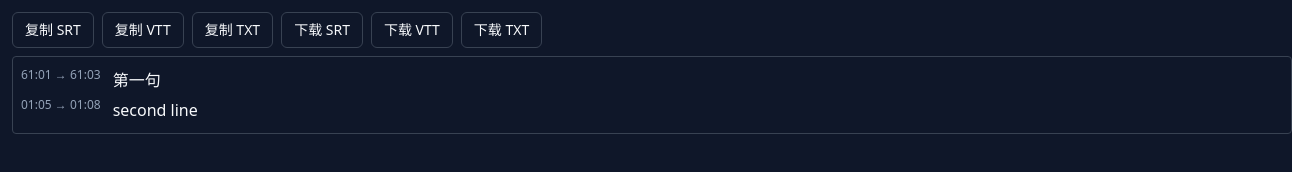
Scenario: 复制失败（clipboard reject 且 execCommand 返回 false）→ error toast
Click the button "复制 VTT" at (143, 30), box [102,12,184,48]
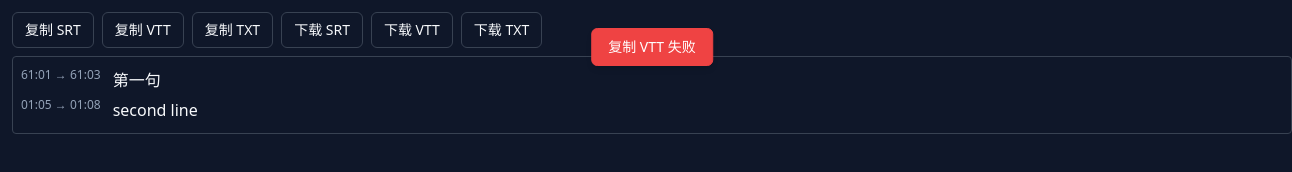
expect the text "复制 VTT 失败" is shown: met, box [591,28,713,66]
